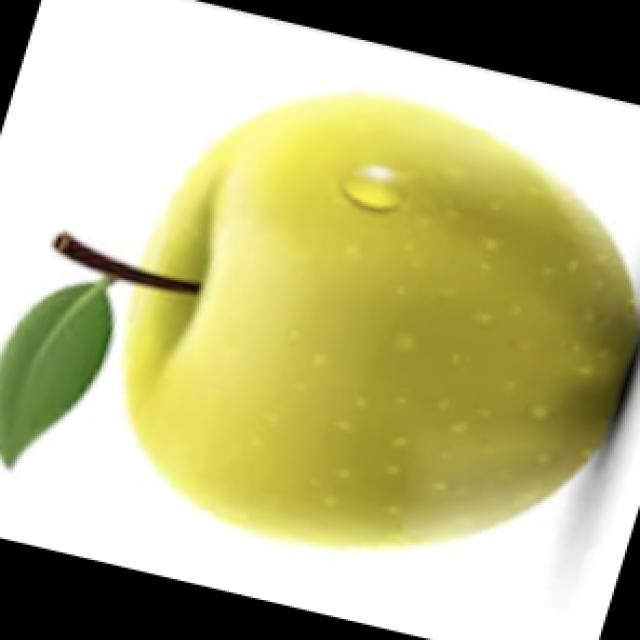Fresh Apple: (100, 101, 640, 526)
